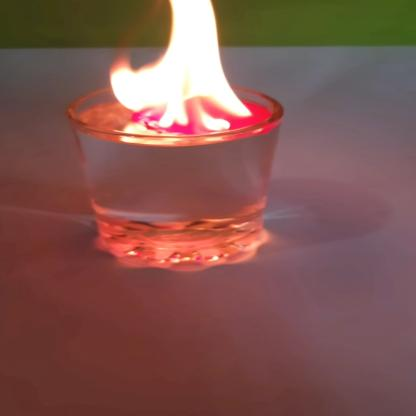Fire: (96, 0, 248, 133)
